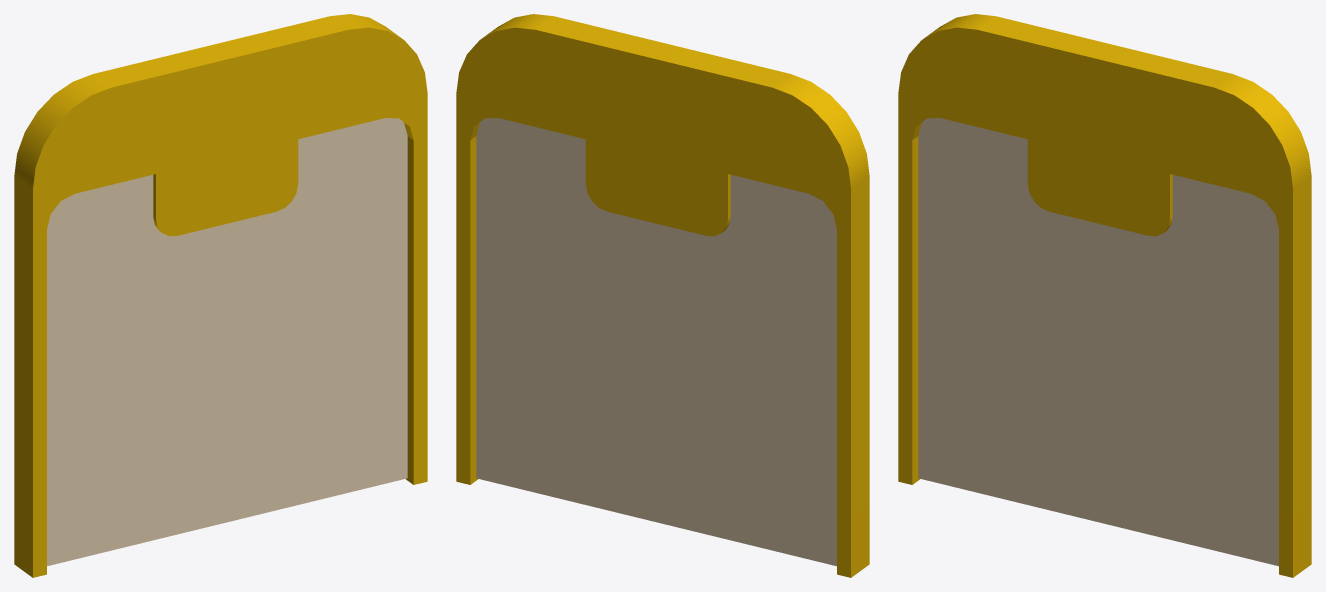
The model's file is gatte.fbx.
3 views of the same model, side by side, from view 1: azimuth 30°, elevation 25°; view 2: azimuth 150°, elevation 25°; view 3: azimuth 330°, elevation 25° (orthographic).
Visible parts, largest first — view 1: pCube2, pCube1, pCube3; view 2: pCube2, pCube1, pCube3; view 3: pCube2, pCube1, pCube3.
Part boxes in pixels (box(x1,y1,x2,y2)): pCube2: box(47, 118, 407, 566); pCube1: box(14, 14, 427, 577); pCube3: box(153, 139, 298, 236); pCube2: box(476, 118, 836, 566); pCube1: box(456, 14, 869, 577); pCube3: box(585, 139, 730, 236); pCube2: box(918, 118, 1278, 566); pCube1: box(898, 14, 1311, 577); pCube3: box(1027, 139, 1172, 236).
Size of the model in its own units: 401 by 457 by 32.64.
